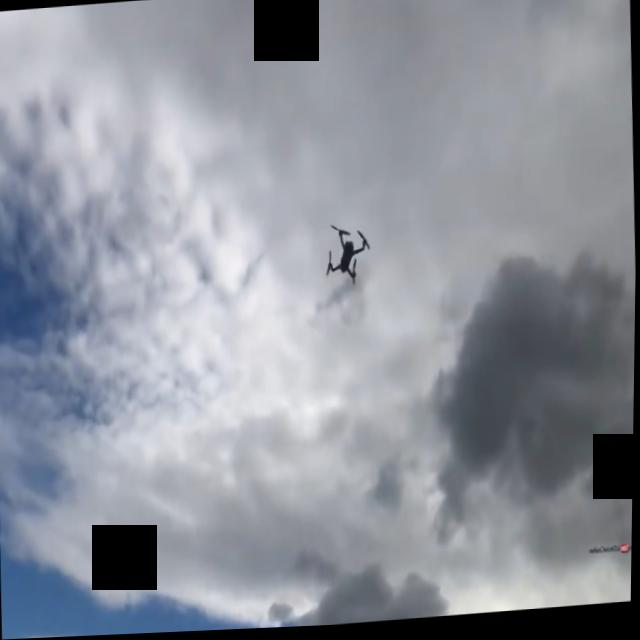Vehicle: (323, 223, 374, 297)
